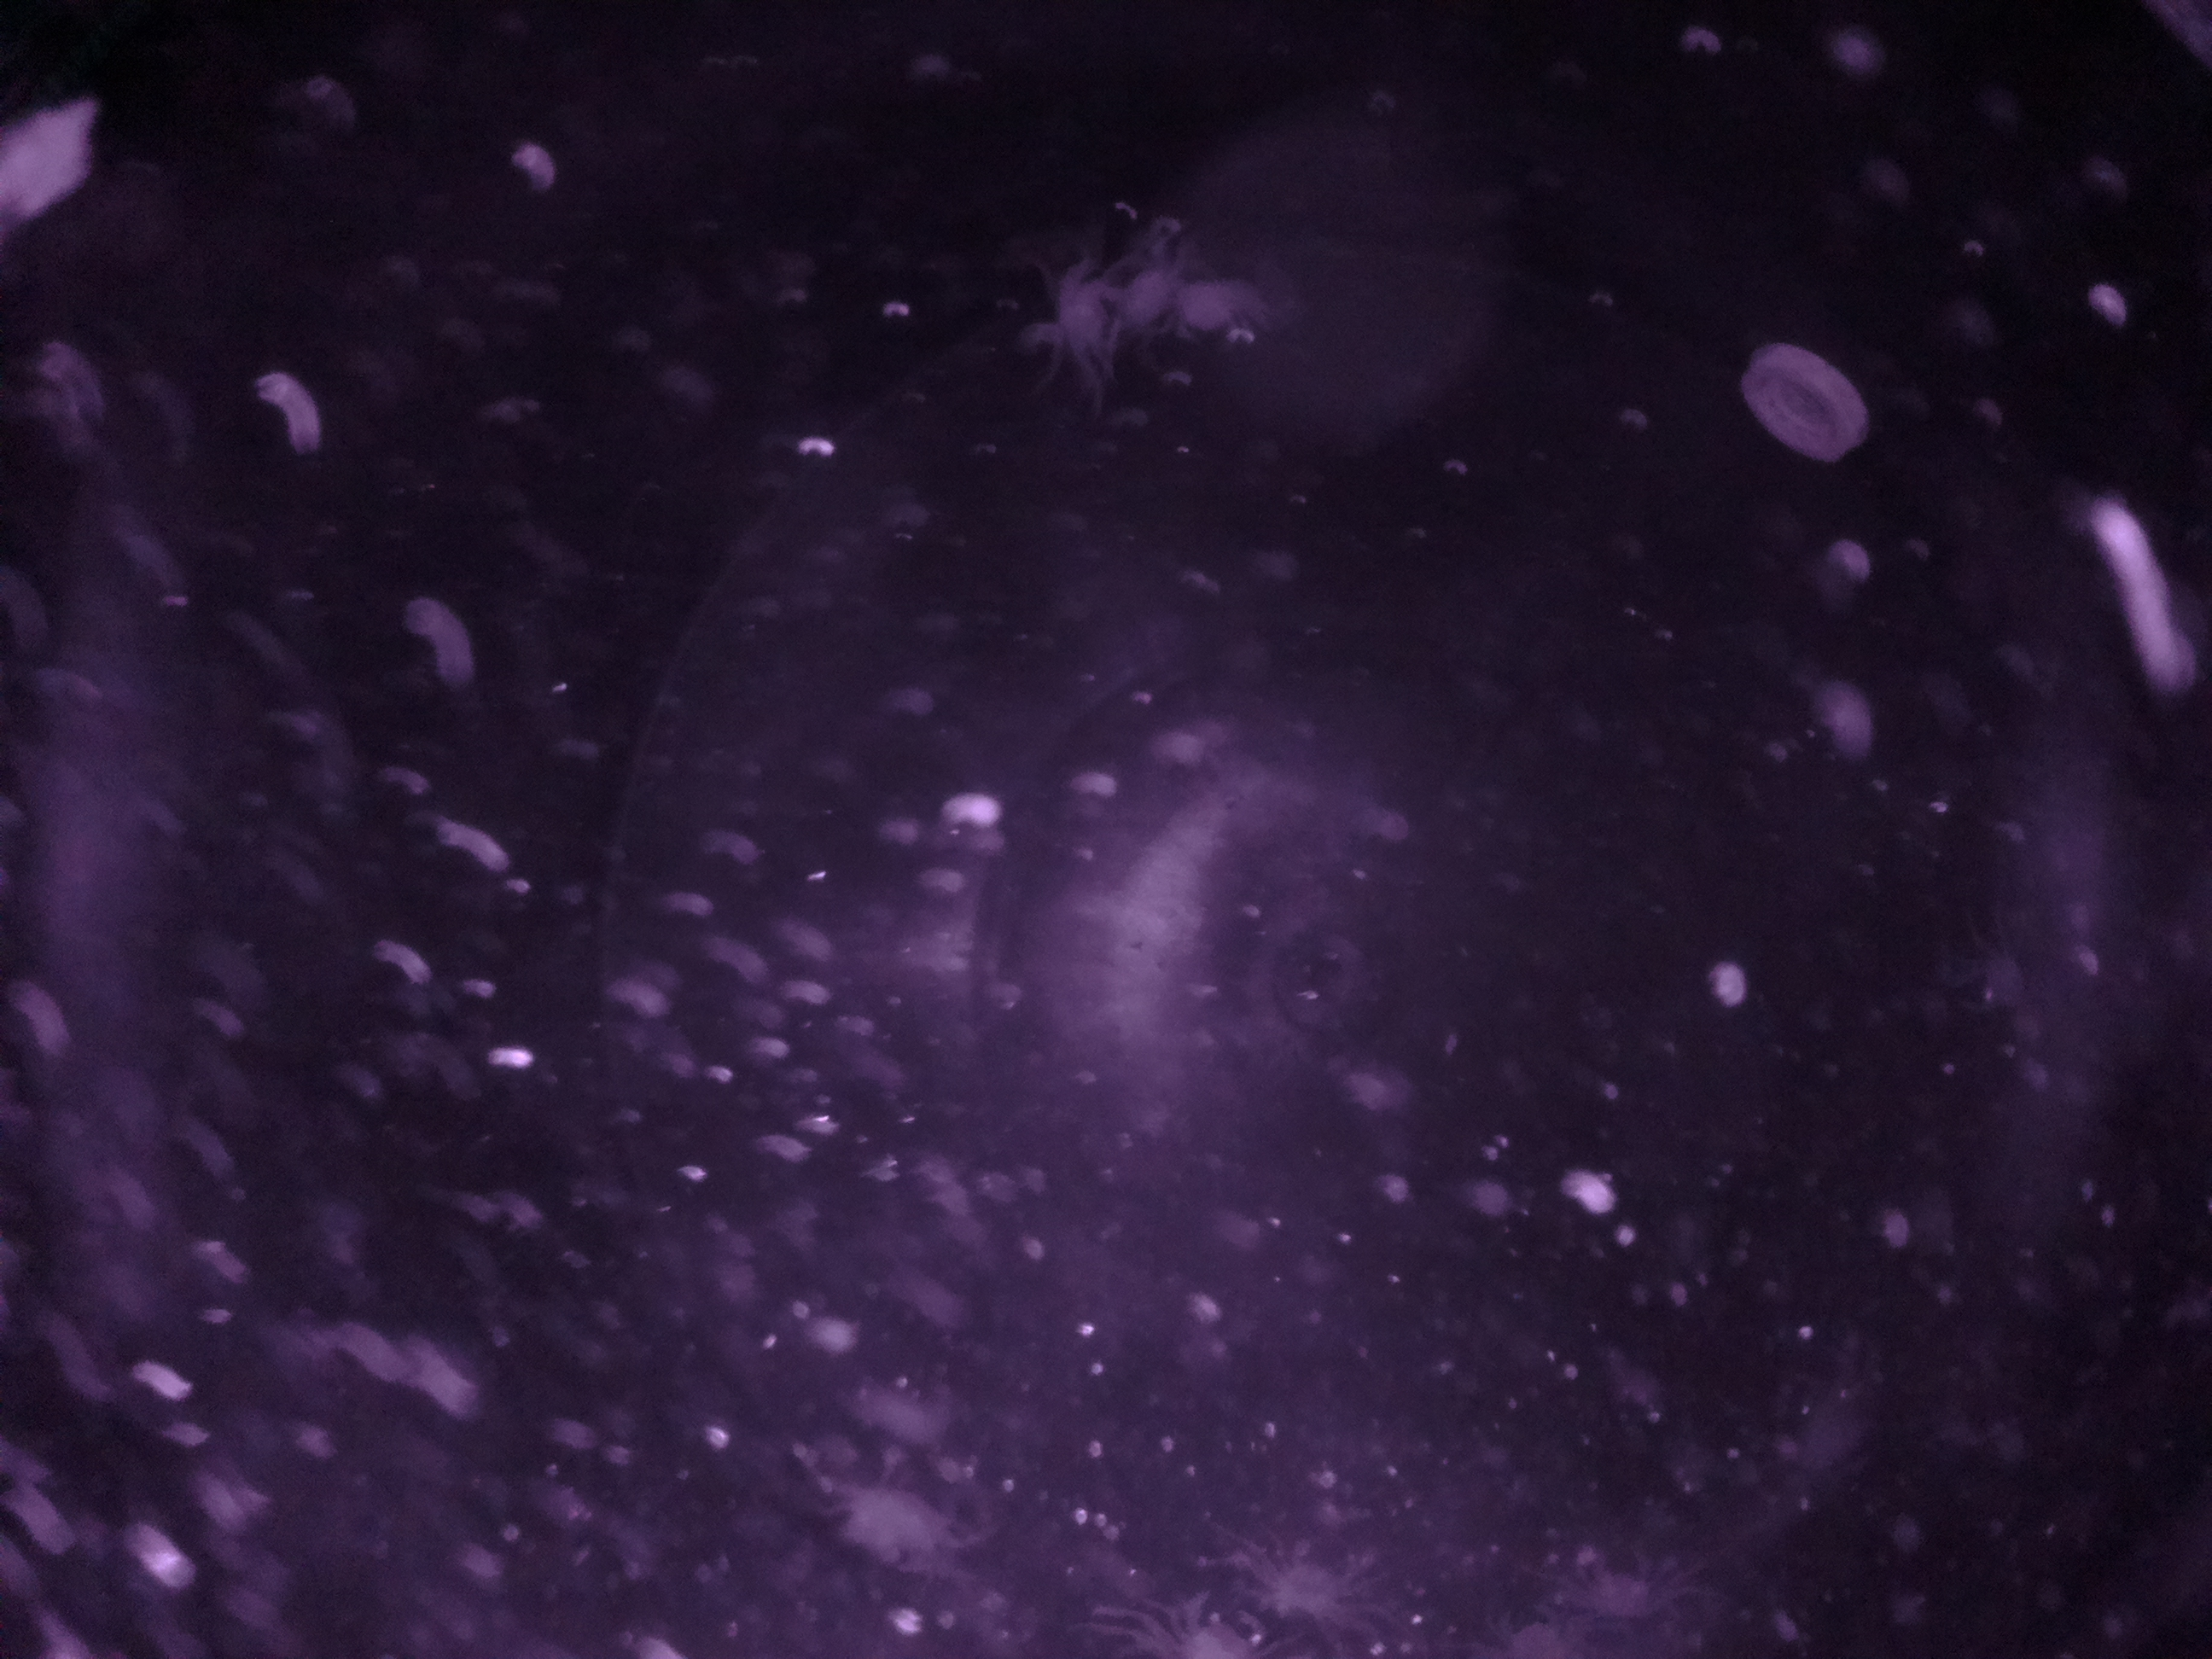Crab: (1271, 1525, 1376, 1642), (1038, 254, 1122, 357), (1158, 268, 1259, 342)
